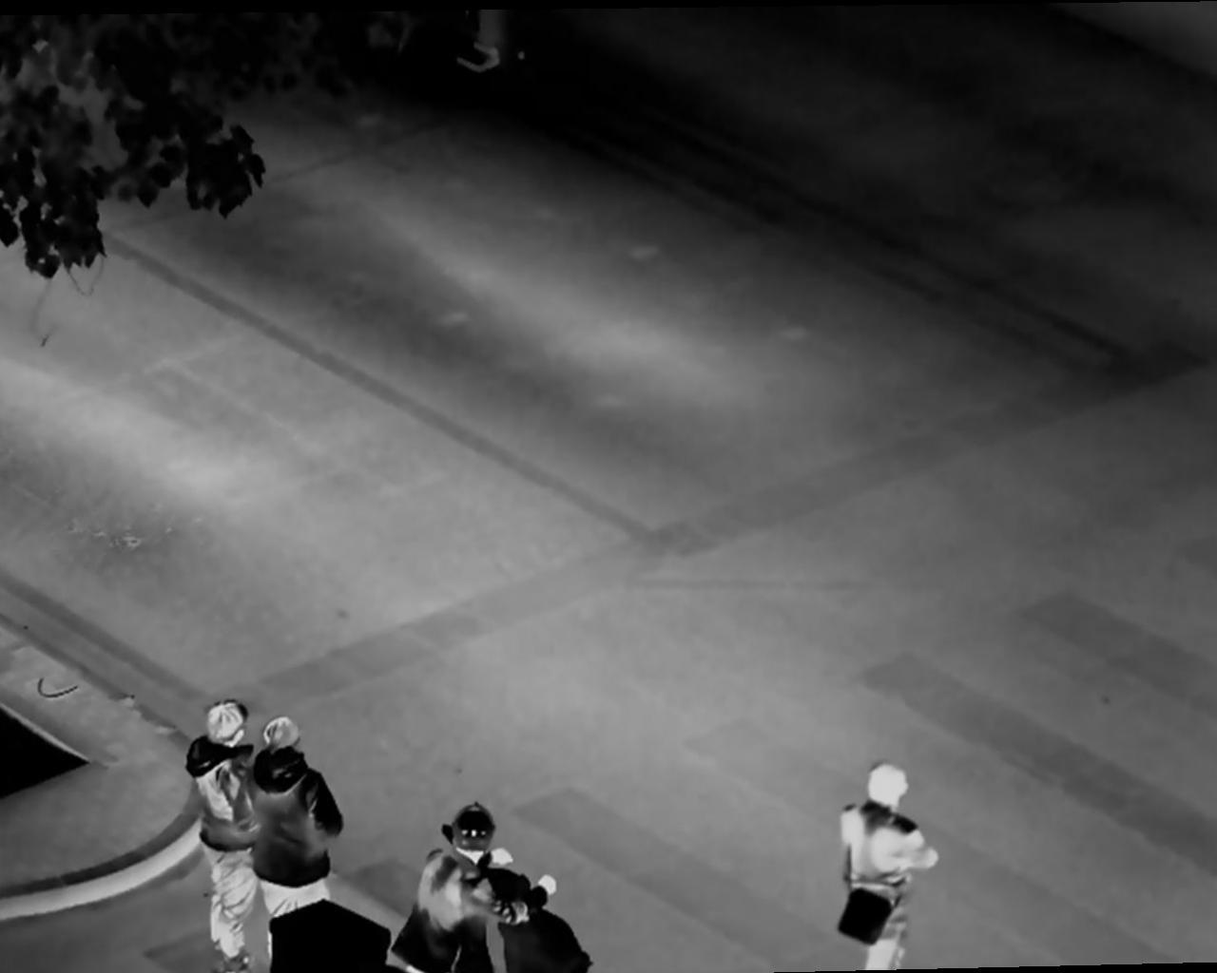person: (242, 714, 353, 936), (840, 753, 949, 973), (184, 694, 265, 969), (401, 797, 521, 973)
